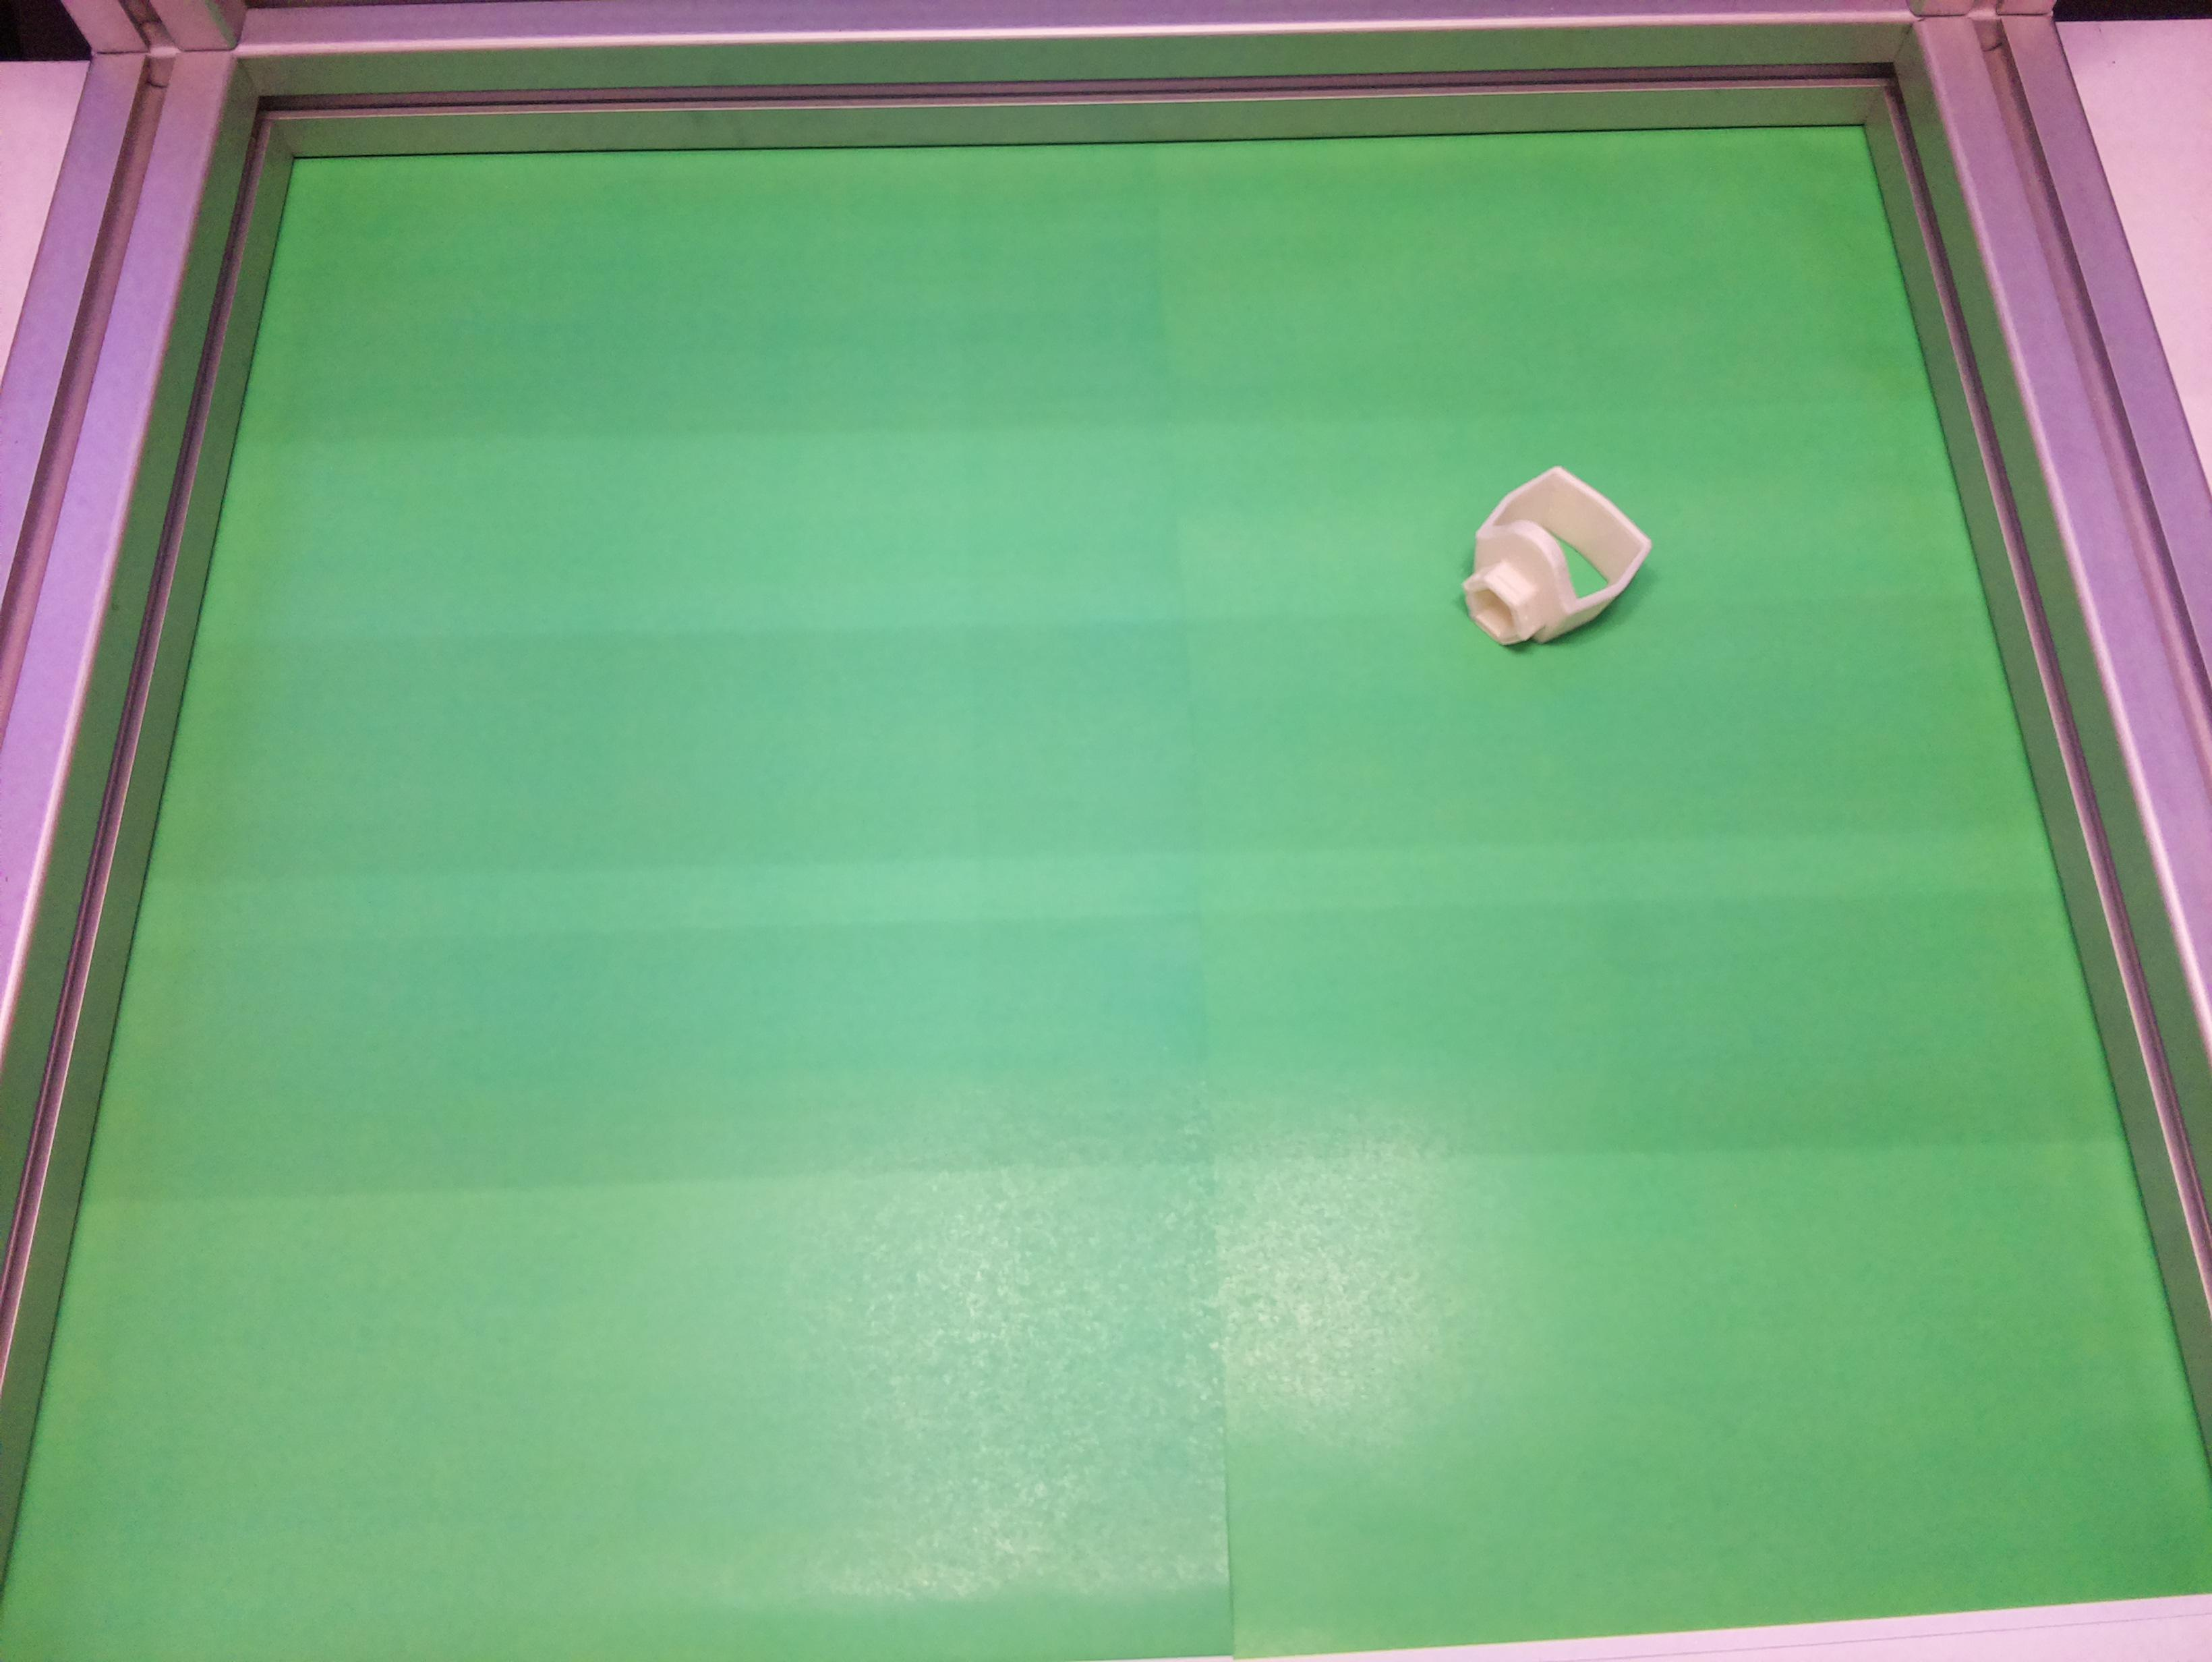tool_holder: (1428, 447, 1662, 681)
